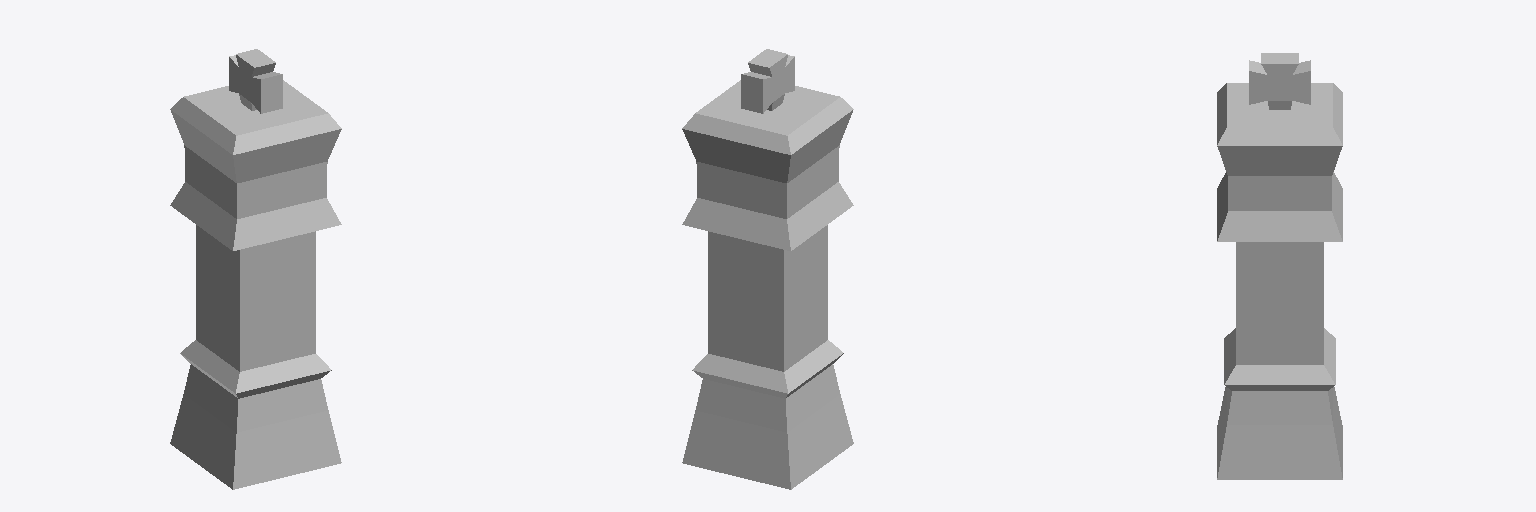
File: King.obj
The picture shows the model from 3 angles: view 1: azimuth 30°, elevation 25°; view 2: azimuth 150°, elevation 25°; view 3: azimuth 270°, elevation 25°; orthographic projection.
Parts seen in each view (by area): view 1: King; view 2: King; view 3: King.
Boxes of the visible parts, x1=… form: King: x1=170, y1=49, x2=341, y2=489; King: x1=682, y1=49, x2=853, y2=489; King: x1=1217, y1=53, x2=1342, y2=479.
Bounding box in the file's own units: 2 × 6.93 × 2.